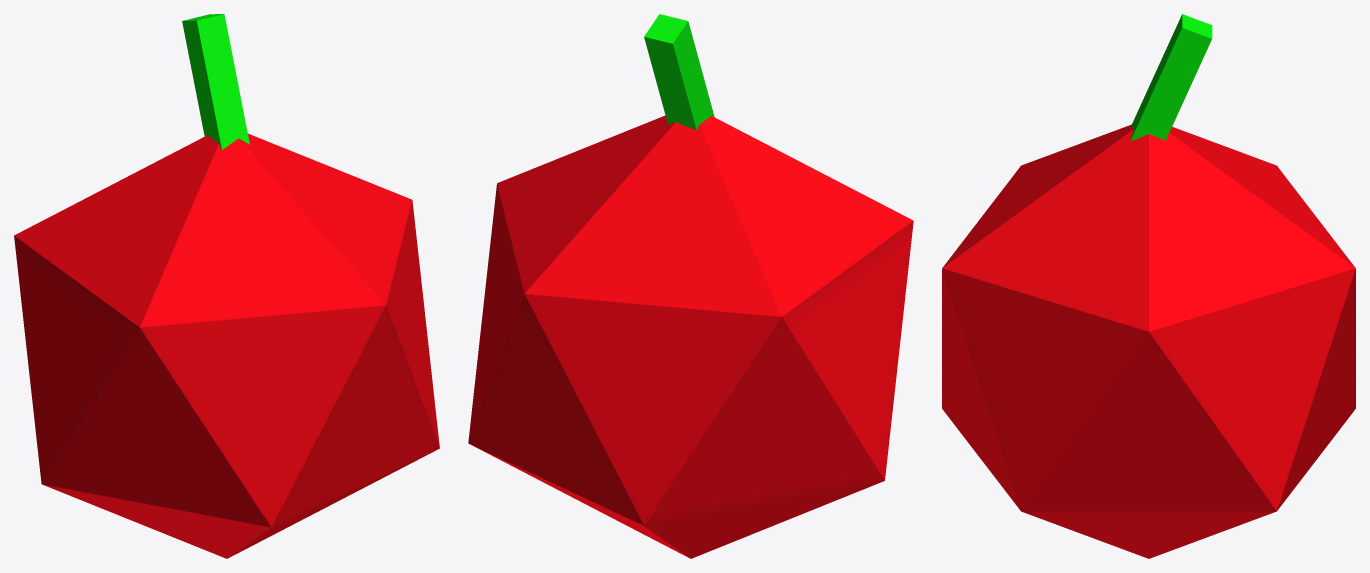
Rendered from apple.obj.
3 views of the same model, side by side, from view 1: azimuth 30°, elevation 25°; view 2: azimuth 150°, elevation 25°; view 3: azimuth 270°, elevation 25° (orthographic). The views are drawn at different scales.
Visible parts, largest first — view 1: Cube.001; view 2: Cube.001; view 3: Cube.001.
Part boxes in pixels (<box>): Cube.001: <box>14,14,439,558</box>; Cube.001: <box>468,14,913,558</box>; Cube.001: <box>942,14,1355,558</box>.
Size of the model in its own units: 0.2683 by 0.3662 by 0.2552.
